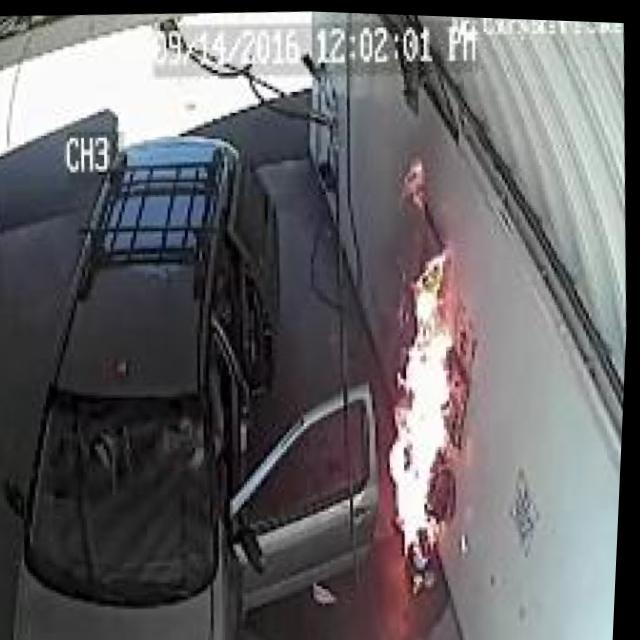fire: (375, 228, 496, 582)
